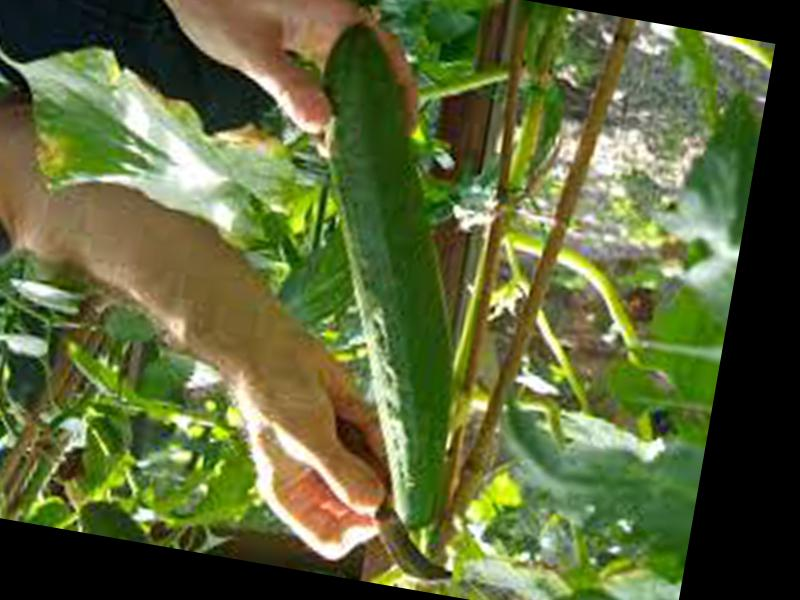Cucumber: (252, 20, 520, 530)
